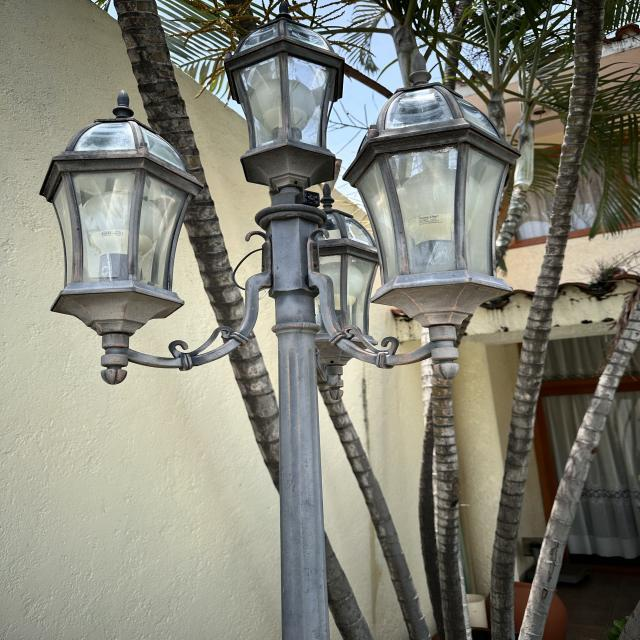hidden camera: (309, 195, 316, 201)
